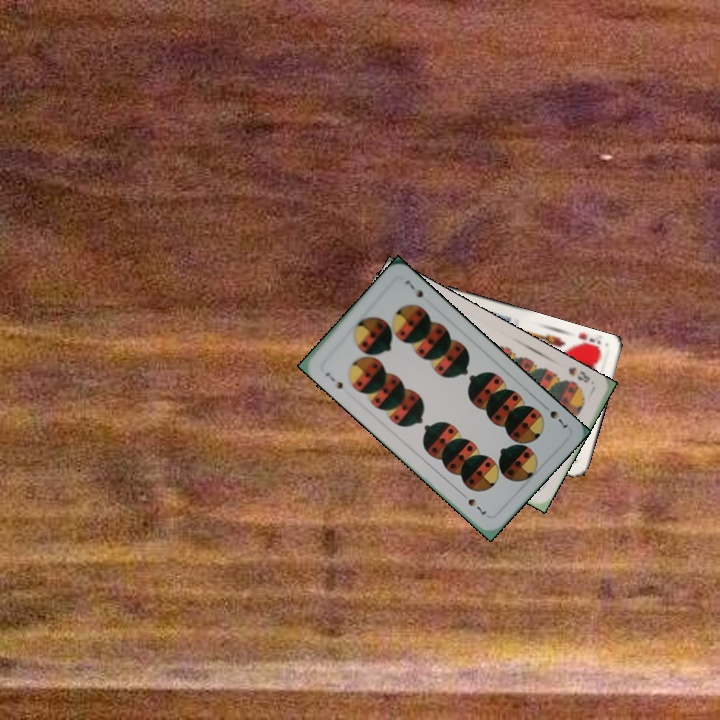HK: (568, 329, 604, 354)
S7: (538, 400, 570, 431), (321, 368, 345, 392)
S8: (564, 363, 593, 385)
